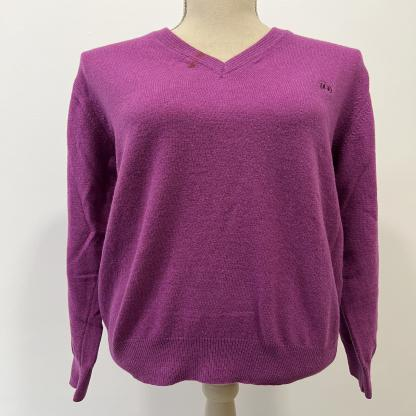stain: (184, 58, 201, 71), (195, 51, 208, 60)
